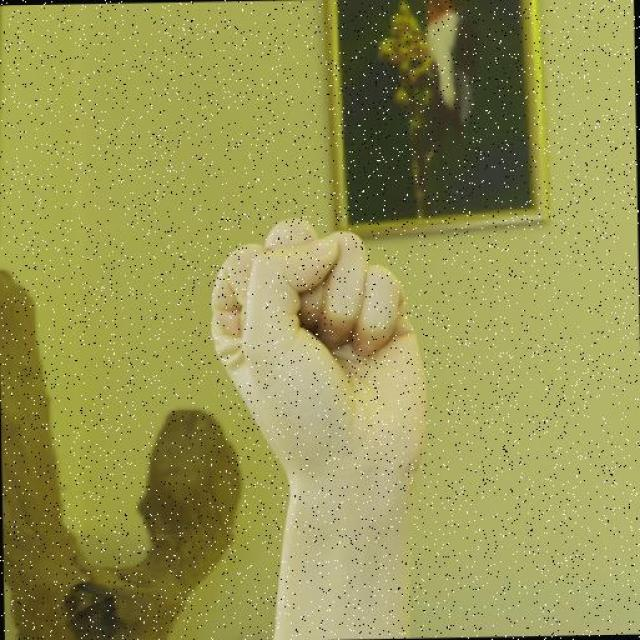S: (207, 213, 434, 498)
